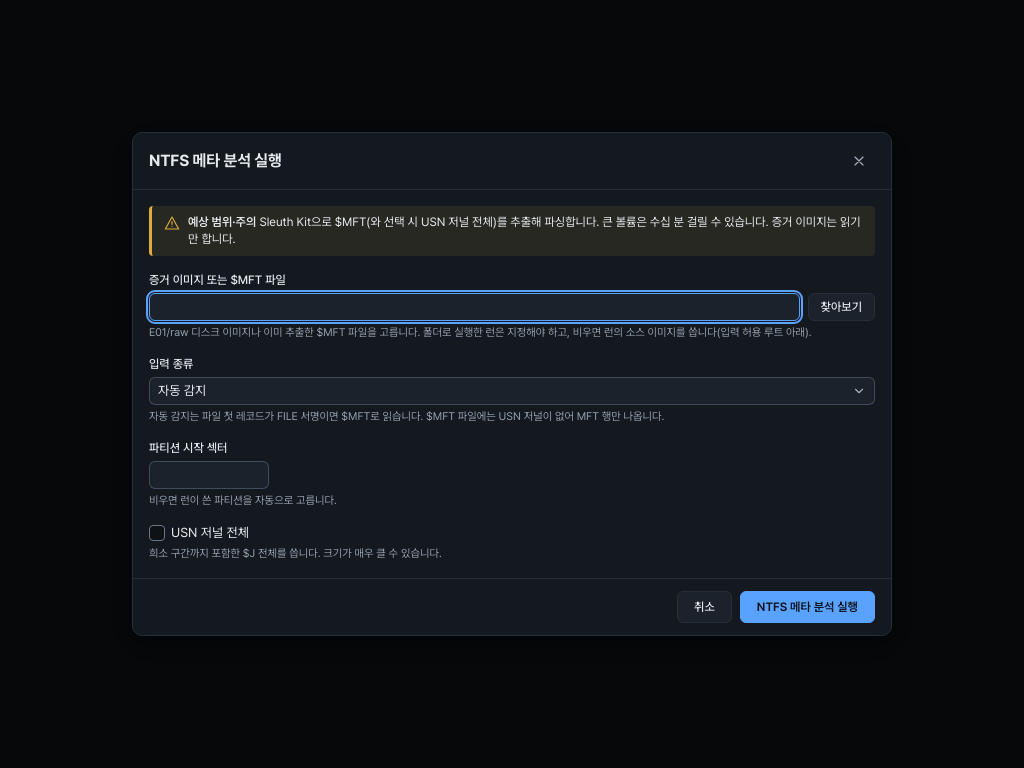
Test: ntfs-meta image picker selects files; $MFT input (Q-P1-6) › the browser lists files and picking one fills image_path
The width and height of the screenshot is (1024, 768).
Click the button "찾아보기". click: (841, 306)
box: [808, 292, 875, 320]
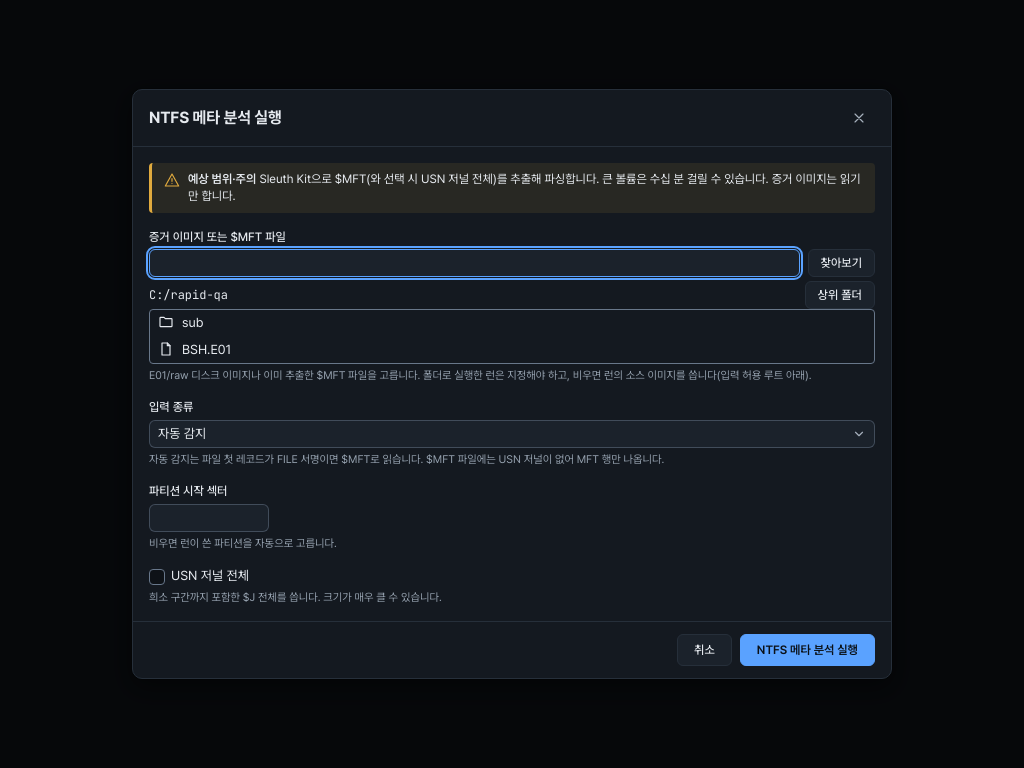
Click the button "BSH.E01". click: (207, 349)
box: [150, 336, 874, 363]
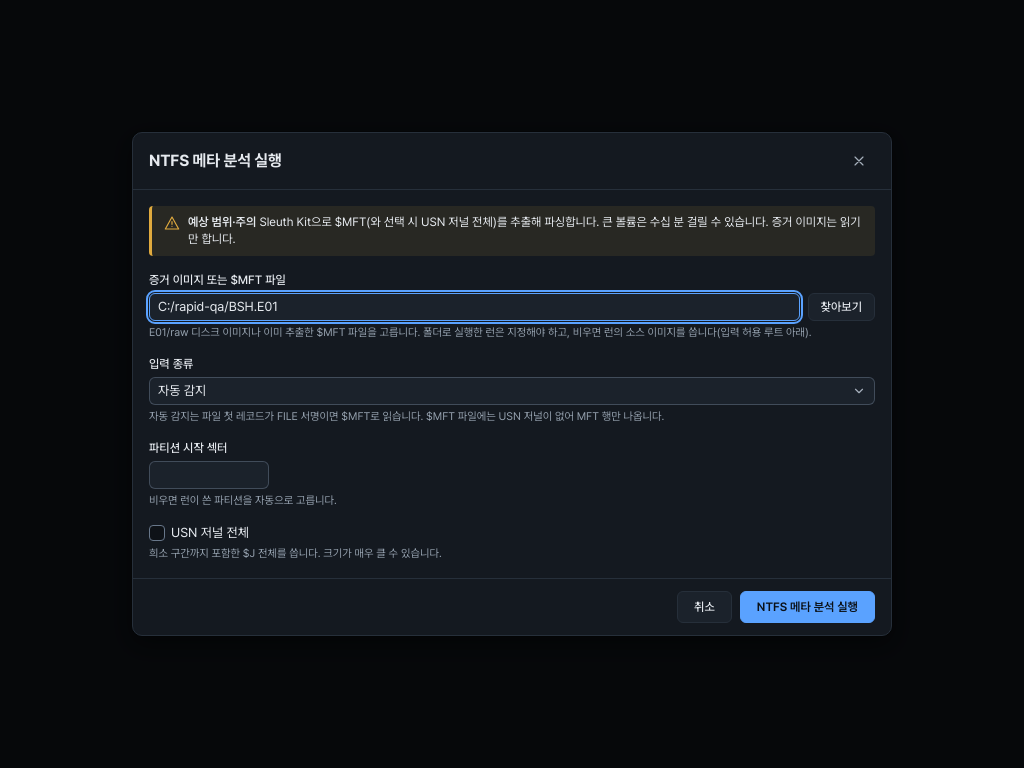
Result: the field labelled "증거 이미지 또는 $MFT 파일" holds "C:/rapid-qa/BSH.E01" at [149, 292, 800, 320]
